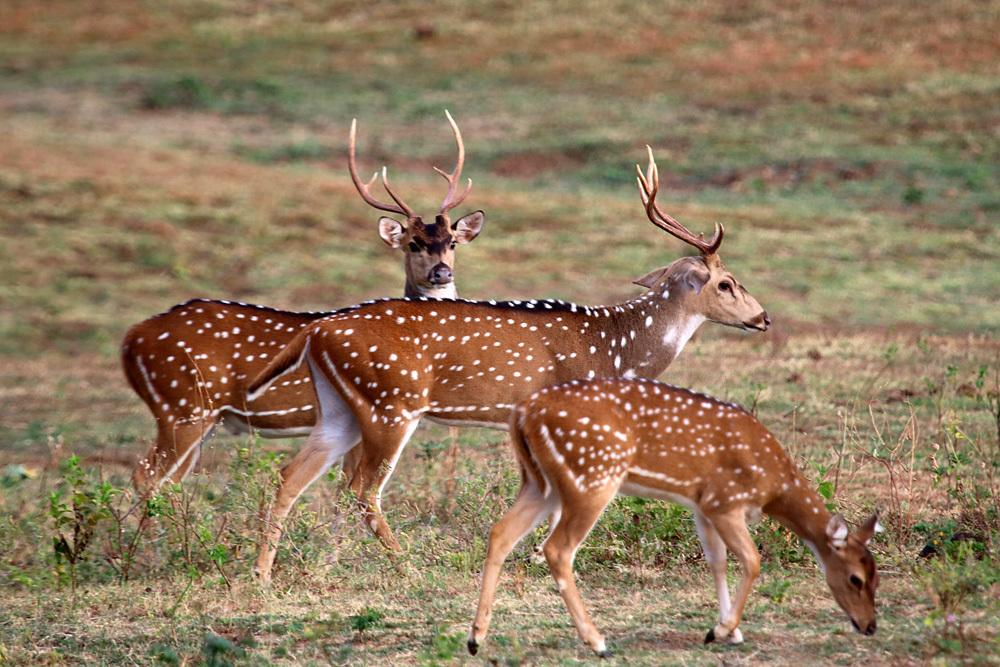Deer: (247, 148, 769, 578), (121, 111, 484, 494), (468, 378, 878, 655)
